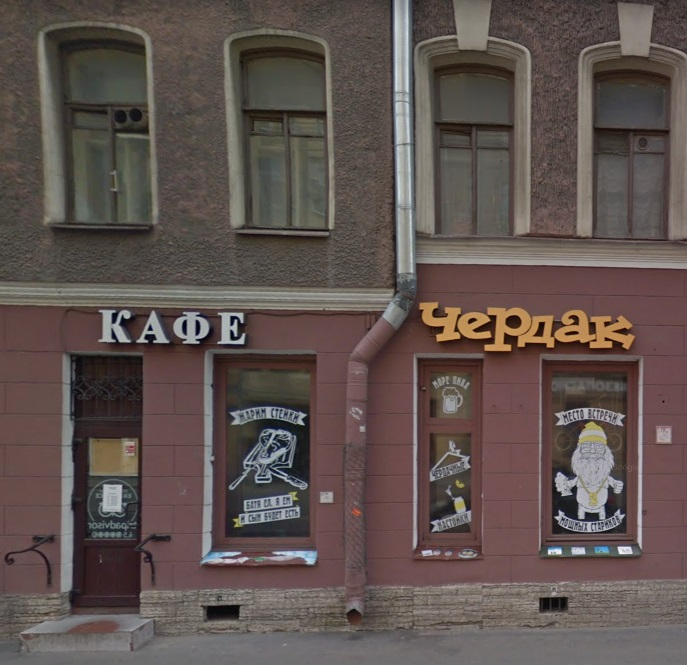door: (68, 423, 143, 610)
signboard: (411, 293, 639, 360), (85, 302, 252, 349)
window: (213, 358, 316, 548), (65, 40, 152, 223), (545, 364, 633, 543), (246, 45, 325, 232), (431, 62, 515, 236), (592, 64, 668, 242), (419, 362, 482, 549)
